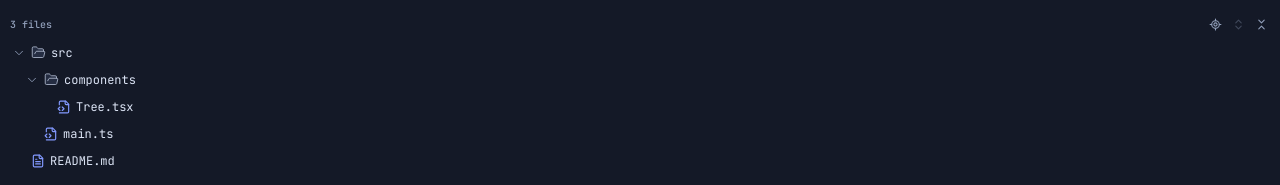
ProjectTree › reveals, focuses, and scrolls the active row without collapsing unrelated folders
Click the button named "Collapse all folders": (1262, 24) [1250, 14, 1273, 35]
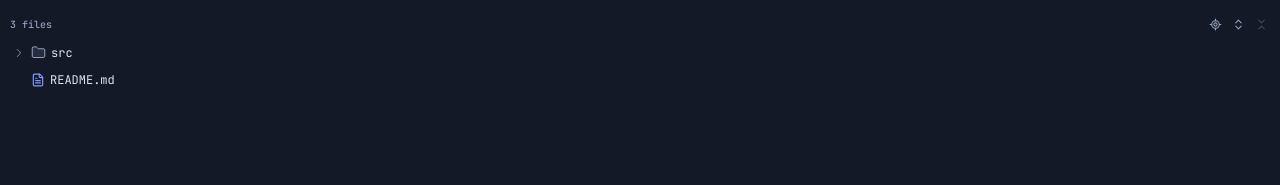
Click the button named "Reveal active file": (1216, 24) [1204, 14, 1227, 35]
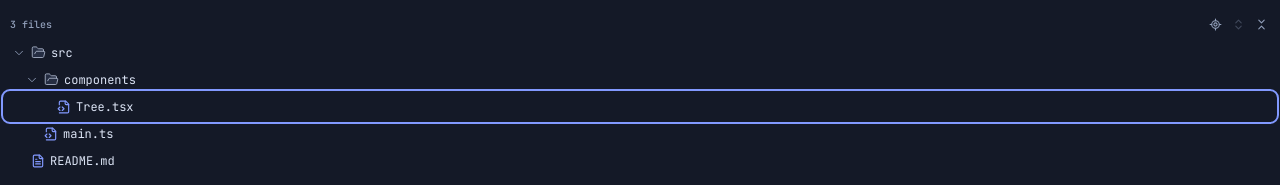
expect the list item "main.ts" is shown: met, box [5, 120, 1275, 147]
